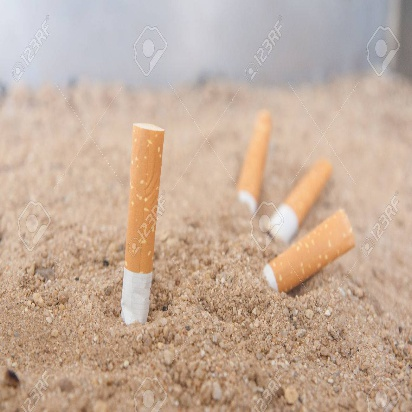cigarette: (122, 121, 168, 328), (255, 207, 358, 295), (270, 146, 332, 246), (236, 106, 274, 213)
